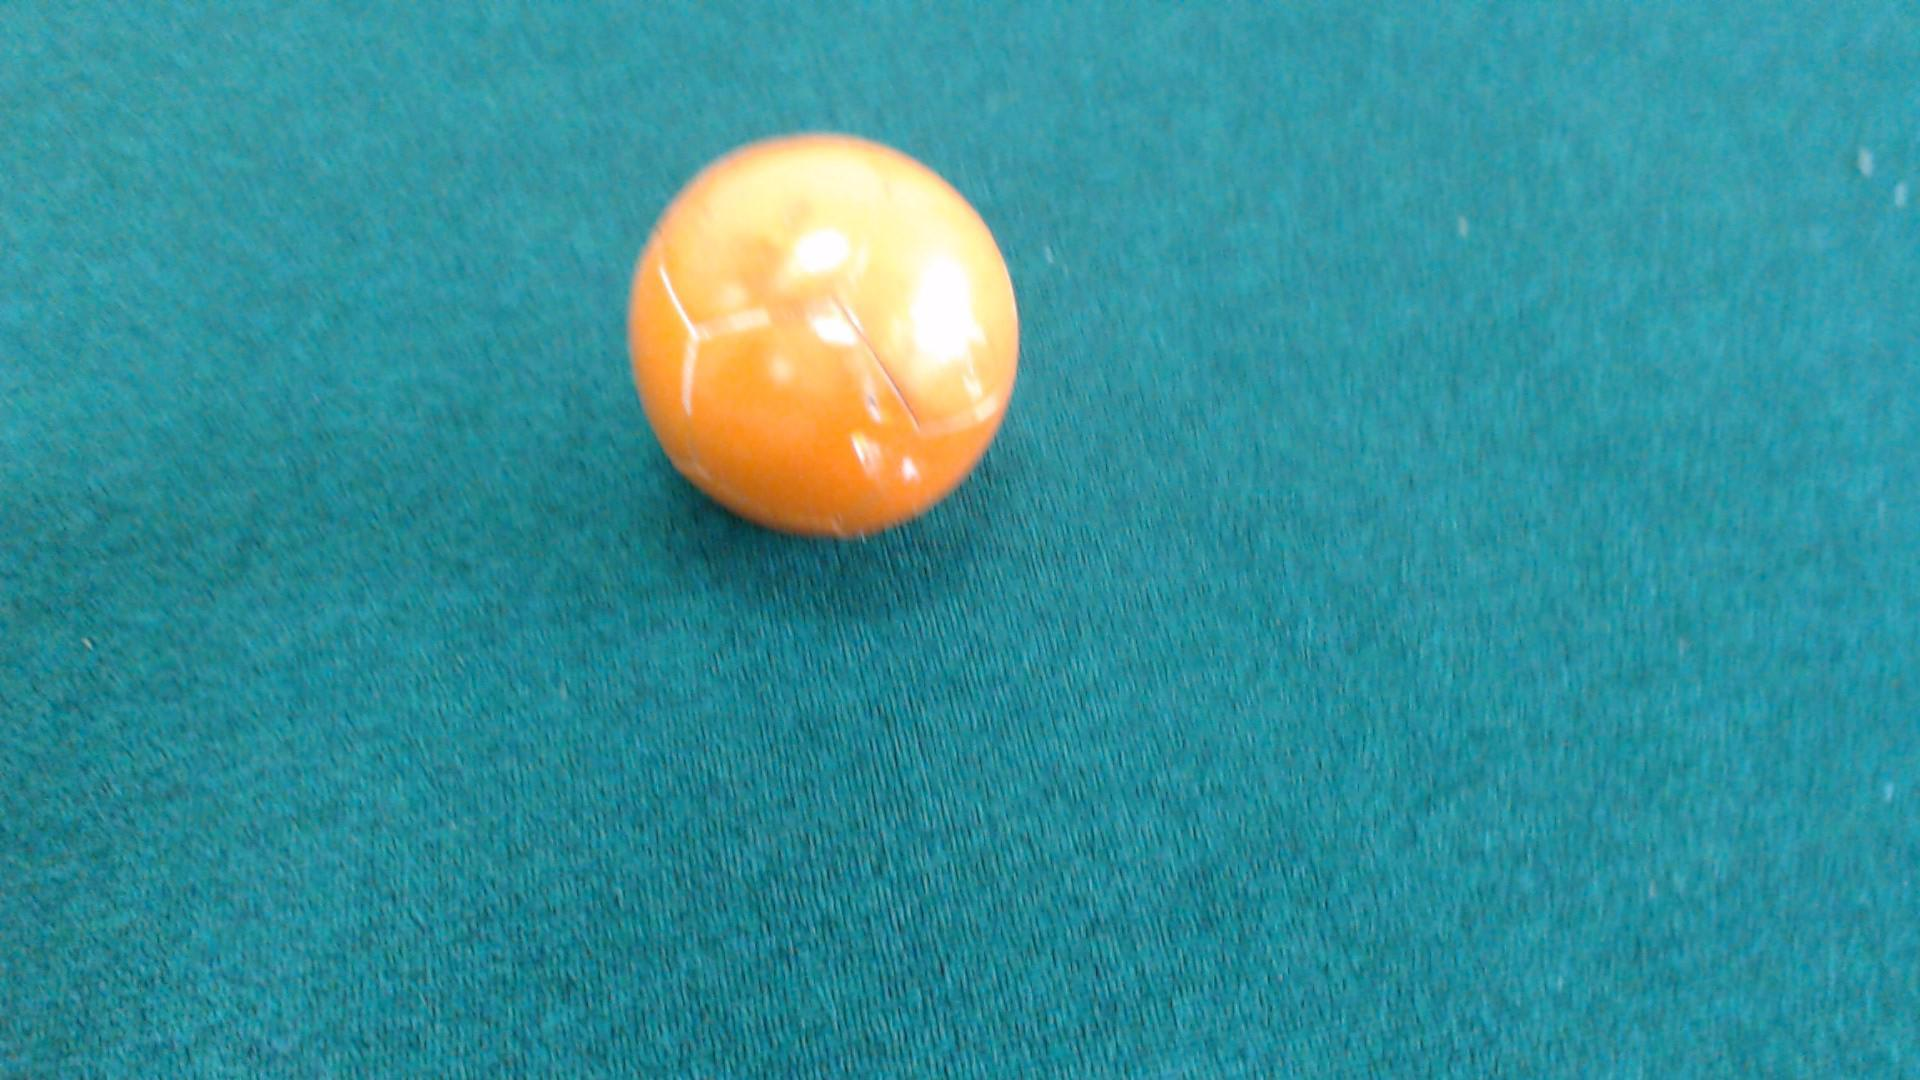bola: (582, 100, 1044, 566)
